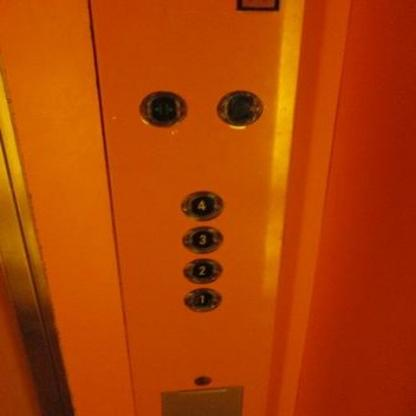1: (182, 286, 222, 313)
2: (181, 257, 224, 285)
3: (180, 224, 224, 254)
4: (180, 190, 226, 221)
blur: (218, 89, 265, 128)
open: (137, 90, 186, 129)
